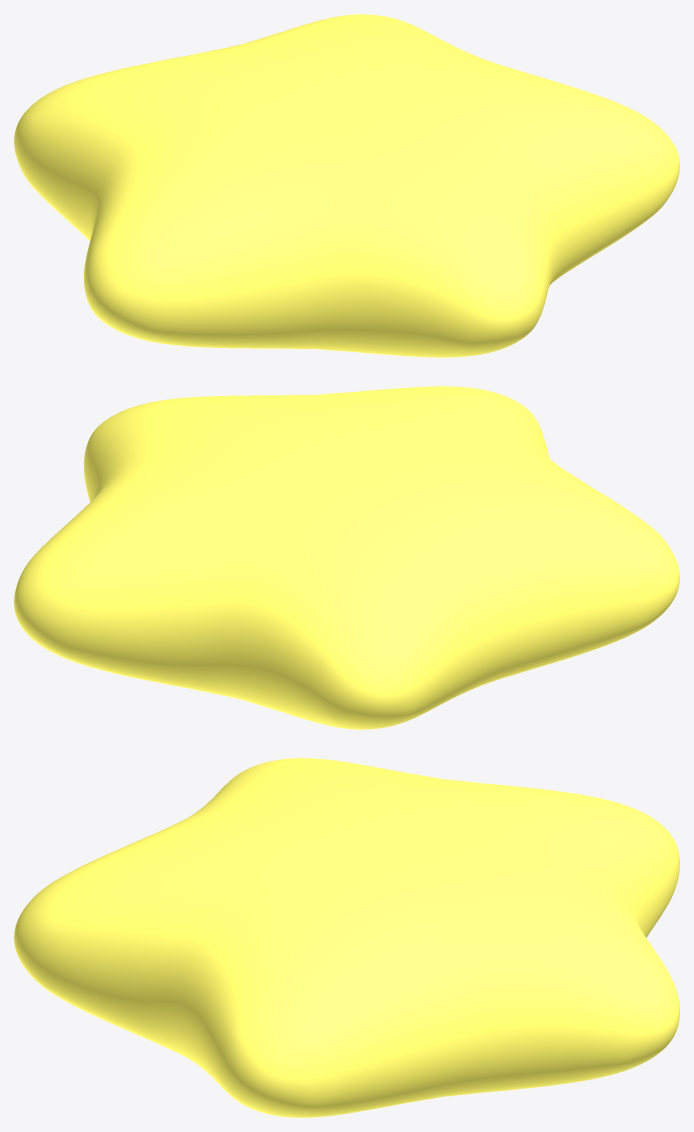
Rendered from Star.glb.
3 renders of one model, top to bottom at view 1: azimuth 30°, elevation 25°; view 2: azimuth 150°, elevation 25°; view 3: azimuth 270°, elevation 25°, orthographic. The views are drawn at different scales.
Visible parts, largest first — view 1: Cylinder.002; view 2: Cylinder.002; view 3: Cylinder.002.
Part boxes in pixels (x1,y1,x2,y2): Cylinder.002: (14, 14, 679, 357); Cylinder.002: (14, 386, 679, 729); Cylinder.002: (14, 758, 679, 1117).
Size of the model in its own units: 2.86 by 0.9262 by 2.74.
